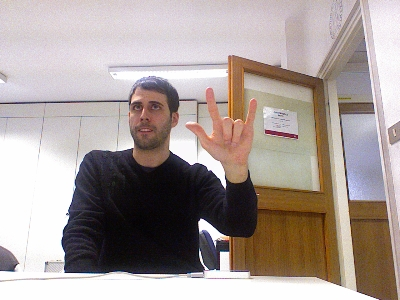我爱你: (183, 85, 257, 166)
